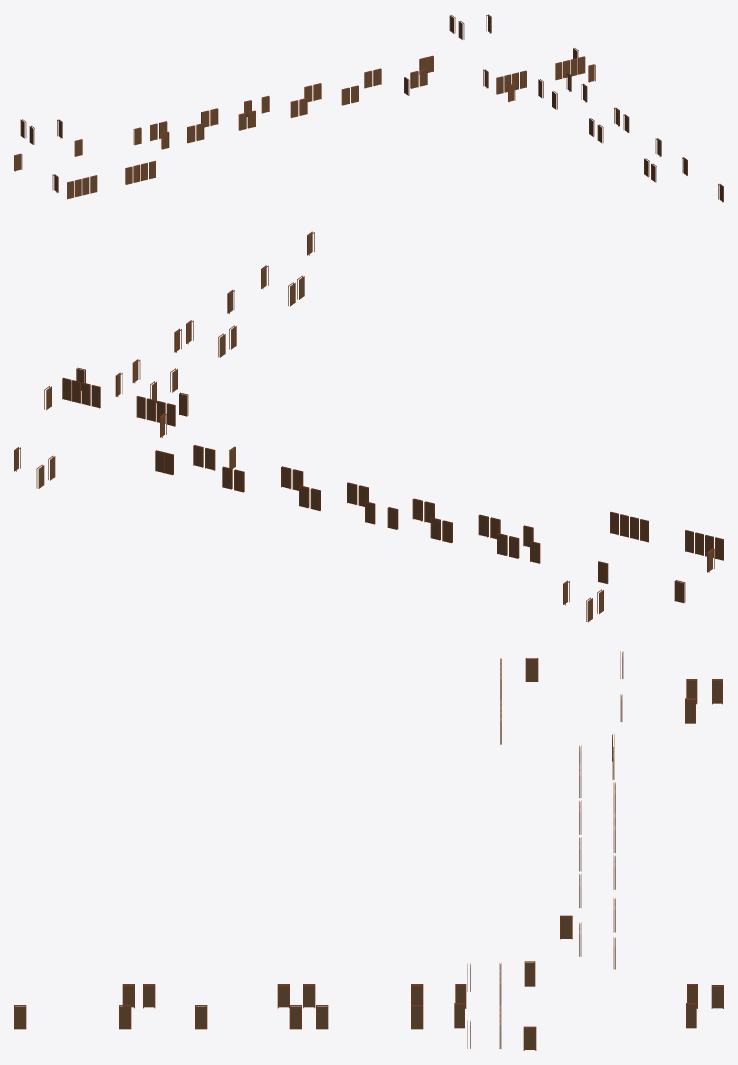
File: insaat_revit.ifc.ifc.ifc.ifc_98.0 Derslikler_IfcDoor.dae
3 views of the same model, one above another, from view 1: azimuth 30°, elevation 25°; view 2: azimuth 150°, elevation 25°; view 3: azimuth 270°, elevation 25° (orthographic). The views are drawn at different scales.
Size of the model in its own units: 74.15 by 59.06 by 2.21.
